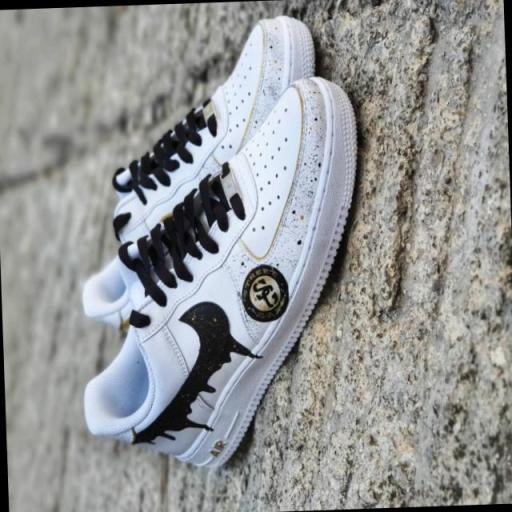Nike: (136, 294, 237, 436)
